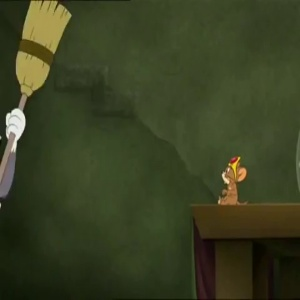Jerry: (217, 155, 248, 184)
